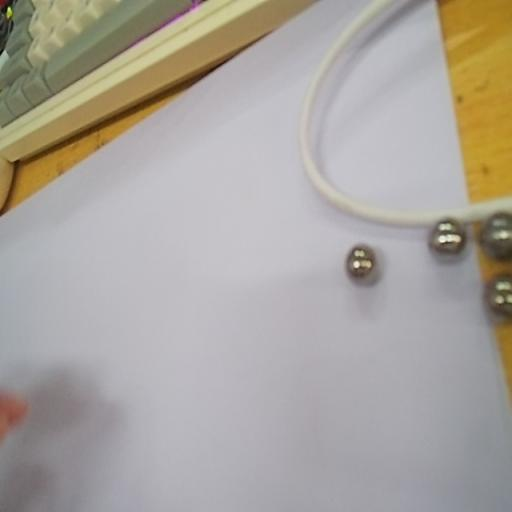steel-ball: (342, 237, 384, 289), (428, 215, 468, 259), (481, 211, 512, 257), (484, 272, 512, 322)
